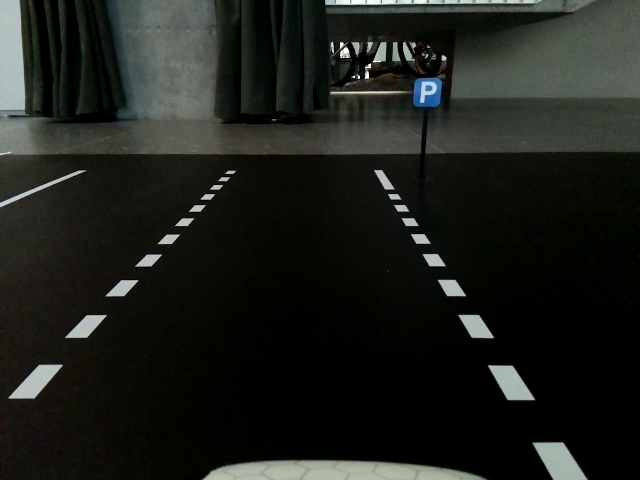park: (413, 79, 444, 109)
